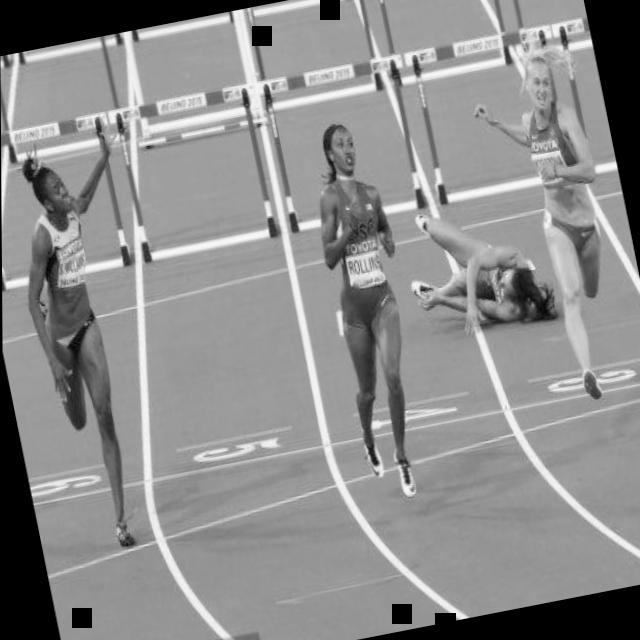Fall-Detected: (386, 183, 560, 355)
